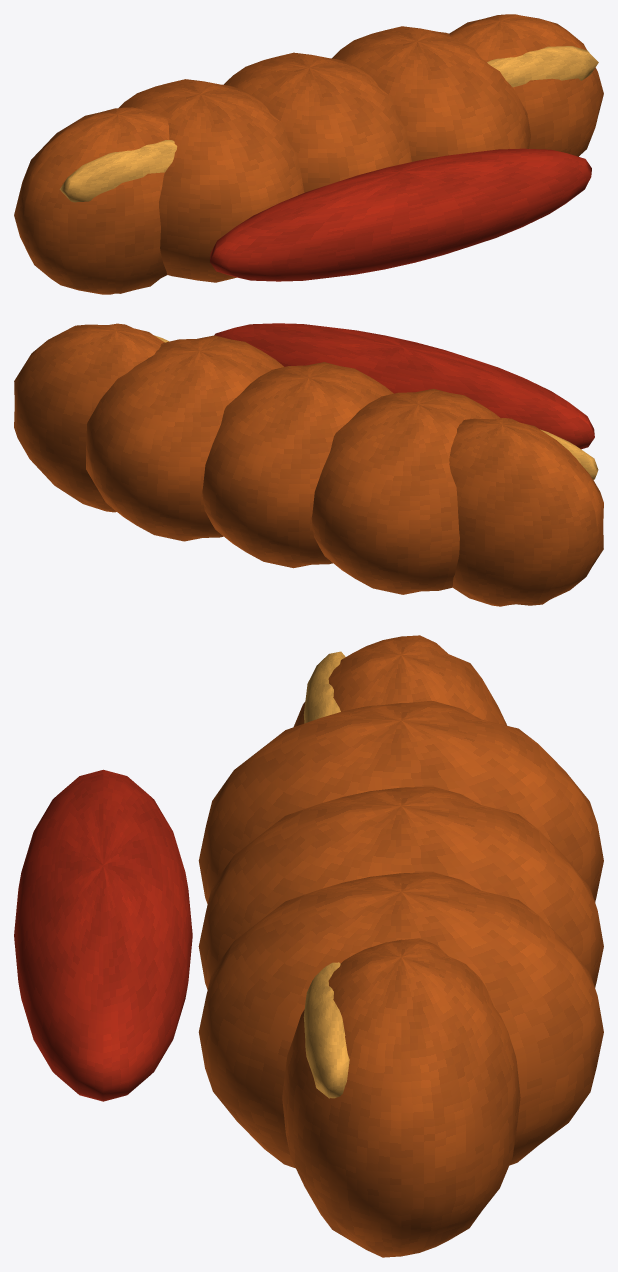
Rendered from bread_wiener_croissant.glb.
3 renders of one model, top to bottom at view 1: azimuth 30°, elevation 25°; view 2: azimuth 150°, elevation 25°; view 3: azimuth 270°, elevation 25°, orthographic. The views are drawn at different scales.
Visible parts, largest first — view 1: 顔を出したソーセージ, 折り重なったパイ生地.001, 折り重なったパイ生地, 折り重なったパイ生地.003, 折り重なったパイ生地.002, 折り重なったパイ生地.004, 層の焼き色, 層の焼き色.004; view 2: 折り重なったパイ生地.001, 折り重なったパイ生地, 折り重なったパイ生地.003, 折り重なったパイ生地.002, 顔を出したソーセージ, 折り重なったパイ生地.004, 層の焼き色; view 3: 折り重なったパイ生地.004, 折り重なったパイ生地.003, 顔を出したソーセージ, 折り重なったパイ生地.002, 折り重なったパイ生地.001, 折り重なったパイ生地, 層の焼き色.004, 層の焼き色.
Part boxes in pixels (x1,y1,x2,y2): 顔を出したソーセージ: [210, 148, 591, 281]; 折り重なったパイ生地.001: [119, 79, 304, 282]; 折り重なったパイ生地: [14, 107, 169, 294]; 折り重なったパイ生地.003: [332, 26, 530, 161]; 折り重なったパイ生地.002: [223, 52, 411, 192]; 折り重なったパイ生地.004: [449, 14, 603, 156]; 層の焼き色: [59, 140, 177, 202]; 層の焼き色.004: [487, 46, 598, 87]; 折り重なったパイ生地.001: [311, 388, 500, 594]; 折り重なったパイ生地: [449, 418, 603, 606]; 折り重なったパイ生地.003: [86, 335, 283, 541]; 折り重なったパイ生地.002: [202, 362, 393, 568]; 顔を出したソーセージ: [214, 323, 594, 449]; 折り重なったパイ生地.004: [14, 323, 164, 512]; 層の焼き色: [540, 429, 598, 479]; 折り重なったパイ生地.004: [282, 938, 520, 1257]; 折り重なったパイ生地.003: [198, 872, 603, 1168]; 顔を出したソーセージ: [14, 769, 192, 1101]; 折り重なったパイ生地.002: [198, 786, 603, 989]; 折り重なったパイ生地.001: [198, 701, 603, 903]; 折り重なったパイ生地: [293, 635, 506, 726]; 層の焼き色.004: [303, 962, 349, 1098]; 層の焼き色: [303, 651, 345, 723].
Size of the model in its own units: 0.8973 by 0.26 by 0.495.
Materials: 3 (3 with a texture image).
